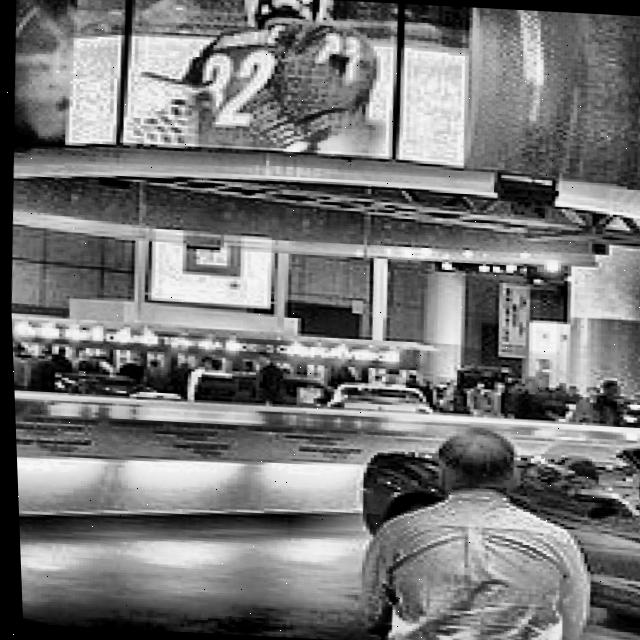light_vehicle: (335, 418, 640, 640)
